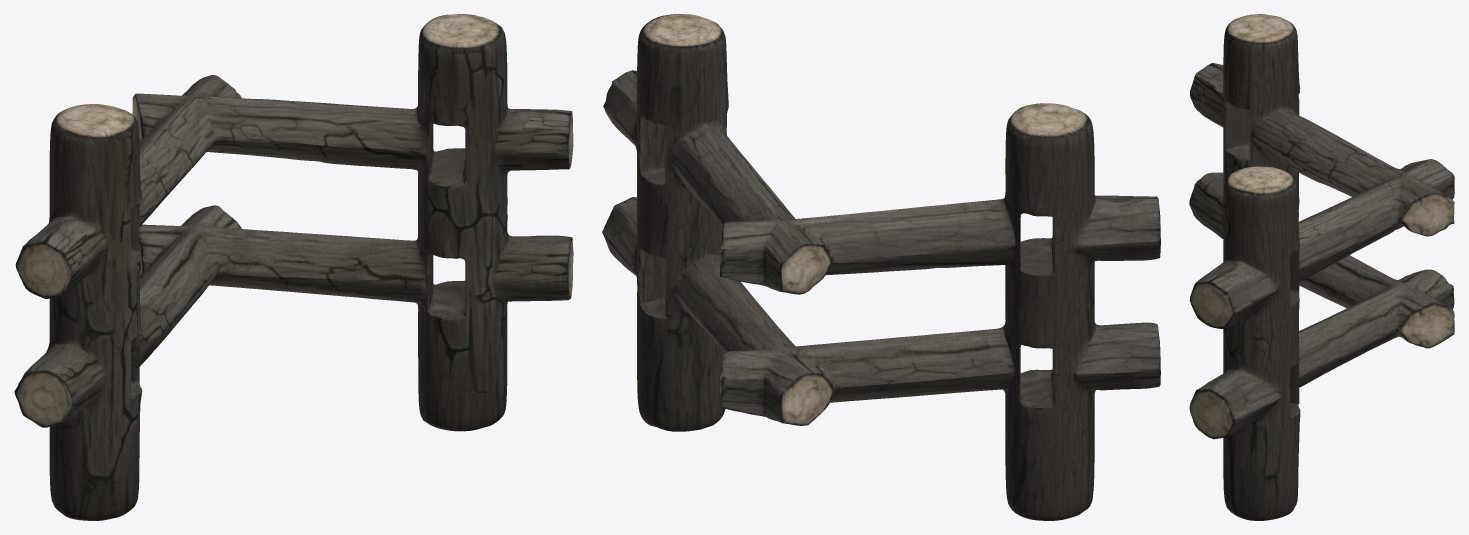
File: ok-fence-corner-meshy.glb
The picture shows the model from 3 angles, left to right: view 1: azimuth 30°, elevation 25°; view 2: azimuth 150°, elevation 25°; view 3: azimuth 270°, elevation 25°; orthographic projection. The views are drawn at different scales.
Size of the model in its own units: 1.89 by 1.26 by 0.9199.
1 material, 1 textured.
